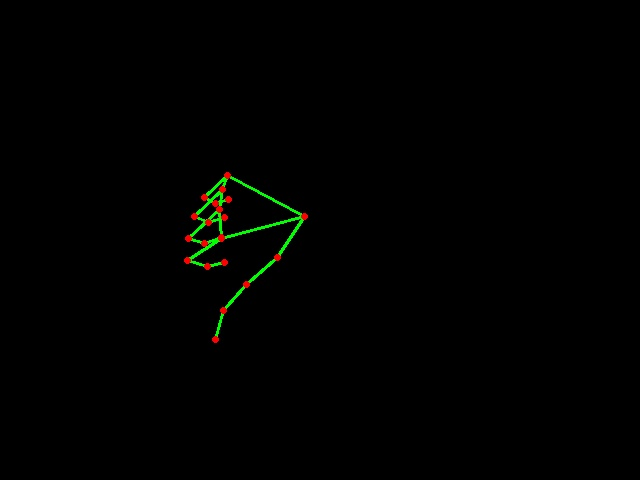slow: (181, 168, 318, 351)
